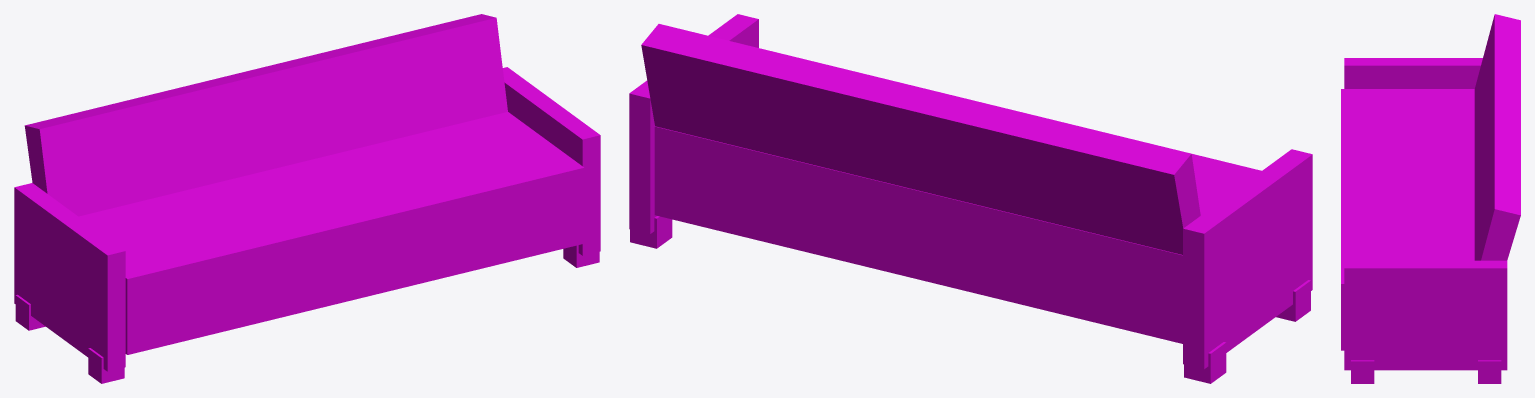
File: SM_CouchCollider.fbx
The picture shows the model from 3 angles, left to right: view 1: azimuth 30°, elevation 25°; view 2: azimuth 150°, elevation 25°; view 3: azimuth 270°, elevation 25°; orthographic projection. The views are drawn at different scales.
Parts seen in each view (by area): view 1: CouchCollision; view 2: CouchCollision; view 3: CouchCollision.
Part boxes in pixels (x1=…): CouchCollision: x1=14, y1=14, x2=600, y2=383; CouchCollision: x1=629, y1=14, x2=1312, y2=383; CouchCollision: x1=1341, y1=14, x2=1520, y2=383.
Size of the model in its own units: 291 by 106 by 104.
